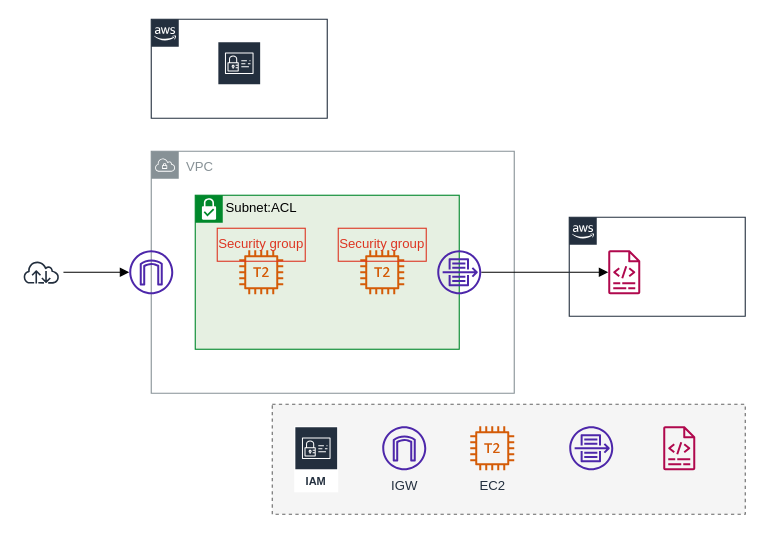
Some shapes in this 765 by 534 pixel diagram are drawn without their labels. The centre of each missing label's shape, as x and y in pixels:
"CloudWatch Logs" goes at (679,448).
"Internet" goes at (40,271).
"VPC Flow Log" goes at (591,448).
